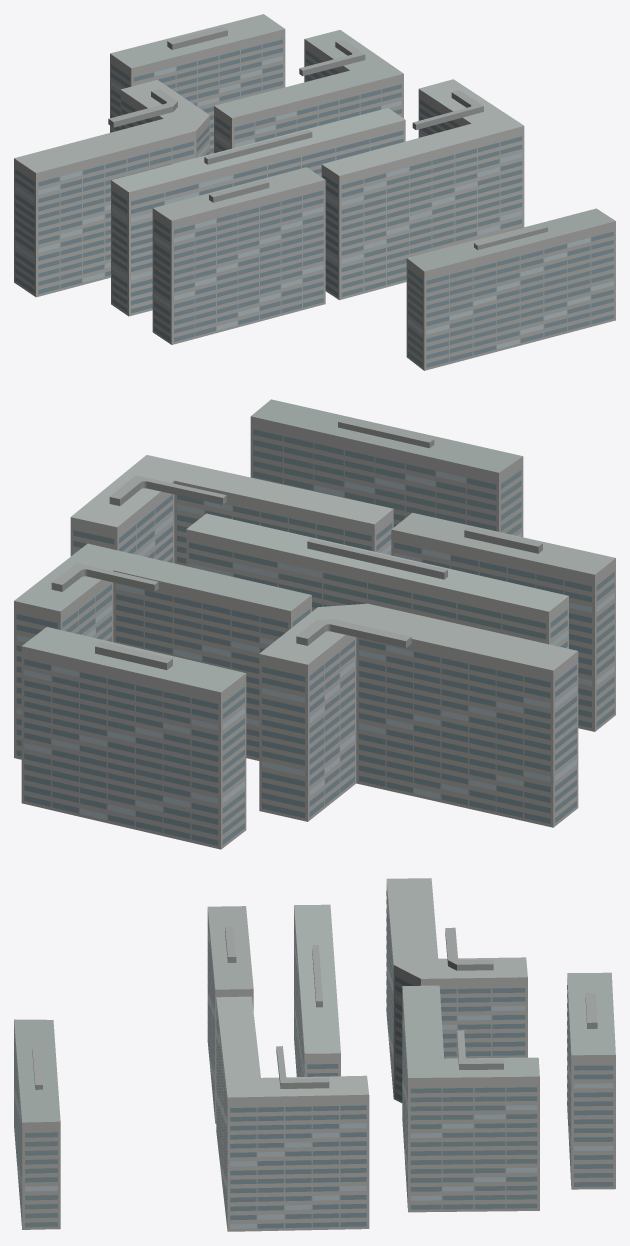
Rendered from apt-a15286807.glb.
3 renders of one model, top to bottom at view 1: azimuth 30°, elevation 25°; view 2: azimuth 150°, elevation 25°; view 3: azimuth 270°, elevation 25°, orthographic. The views are drawn at different scales.
Visible parts, largest first — view 1: apt-a15286807; view 2: apt-a15286807; view 3: apt-a15286807.
Part boxes in pixels (left/top/right/bottom): apt-a15286807: left=14, top=14, right=615, bottom=370; apt-a15286807: left=14, top=399, right=615, bottom=849; apt-a15286807: left=14, top=878, right=615, bottom=1231.
Size of the model in its own units: 160 by 47.81 by 186.
